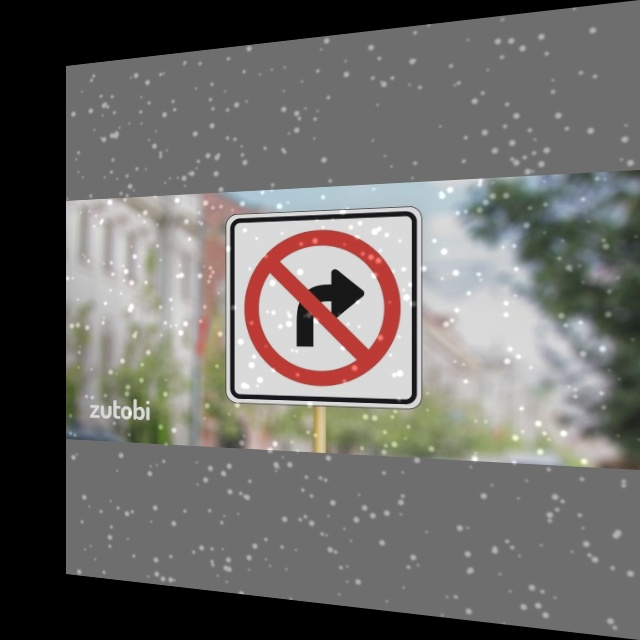Right_Turn_Prohibited: (241, 219, 408, 394)
